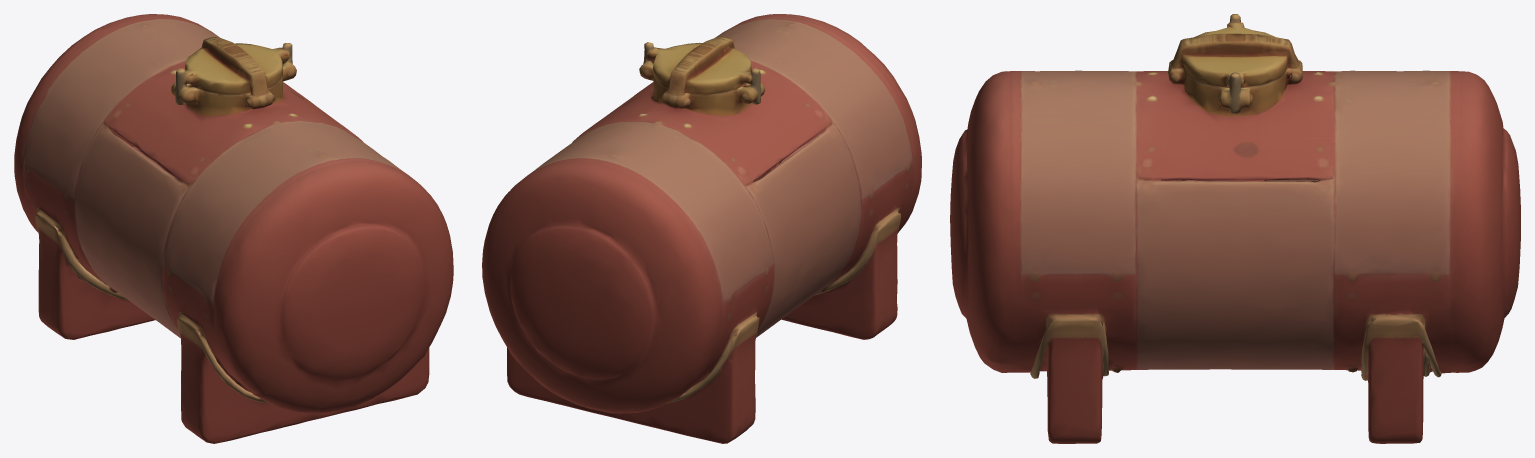
File: tsisterna.glb
3 views of the same model, side by side, from view 1: azimuth 30°, elevation 25°; view 2: azimuth 150°, elevation 25°; view 3: azimuth 270°, elevation 25° (orthographic). The views are drawn at different scales.
Visible parts, largest first — view 1: geometry_0; view 2: geometry_0; view 3: geometry_0.
Boxes of the visible parts, left/top/right/bottom form: geometry_0: left=14, top=14, right=453, bottom=443; geometry_0: left=482, top=14, right=921, bottom=443; geometry_0: left=950, top=14, right=1520, bottom=443.
Bounding box in the file's own units: 0.5407 × 0.6791 × 1.
1 material, 1 textured.
